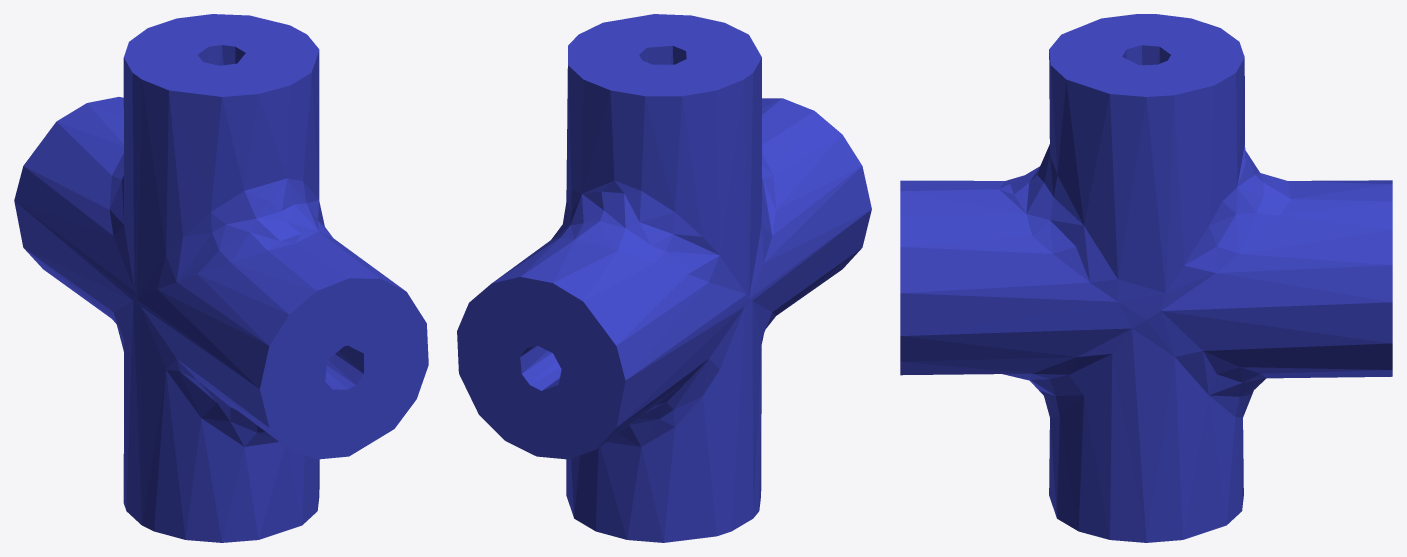
The model's file is fxx_Reduced.glb.
3 renders of one model, left to right at view 1: azimuth 30°, elevation 25°; view 2: azimuth 150°, elevation 25°; view 3: azimuth 270°, elevation 25°, orthographic.
Parts seen in each view (by area): view 1: node_id3; view 2: node_id3; view 3: node_id3.
Boxes of the visible parts, bbox=[...] form: node_id3: bbox=[14, 14, 428, 542]; node_id3: bbox=[457, 14, 871, 542]; node_id3: bbox=[900, 14, 1392, 542].
Size of the model in its own units: 0.2048 by 0.512 by 0.512.
1 material, 1 textured.
